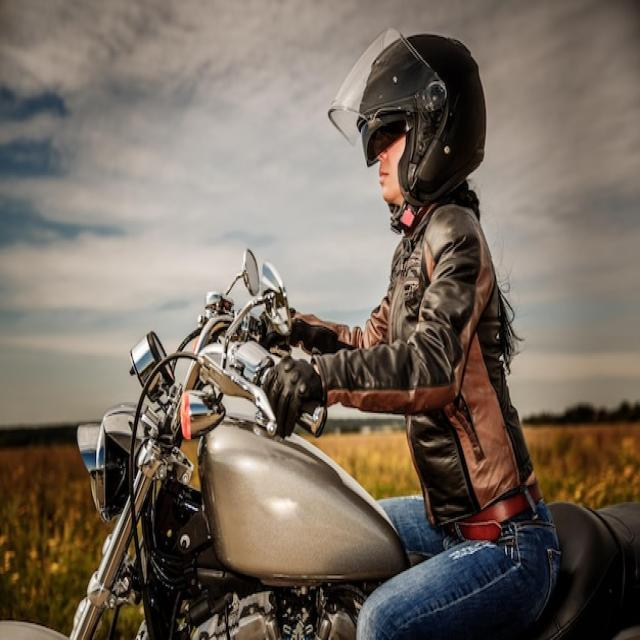Helmet: (323, 14, 494, 228)
